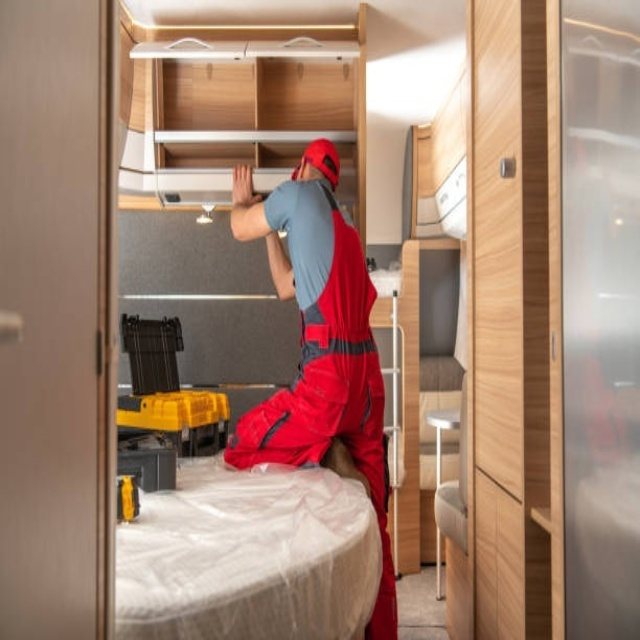Sin_guantes: (230, 162, 261, 207)
